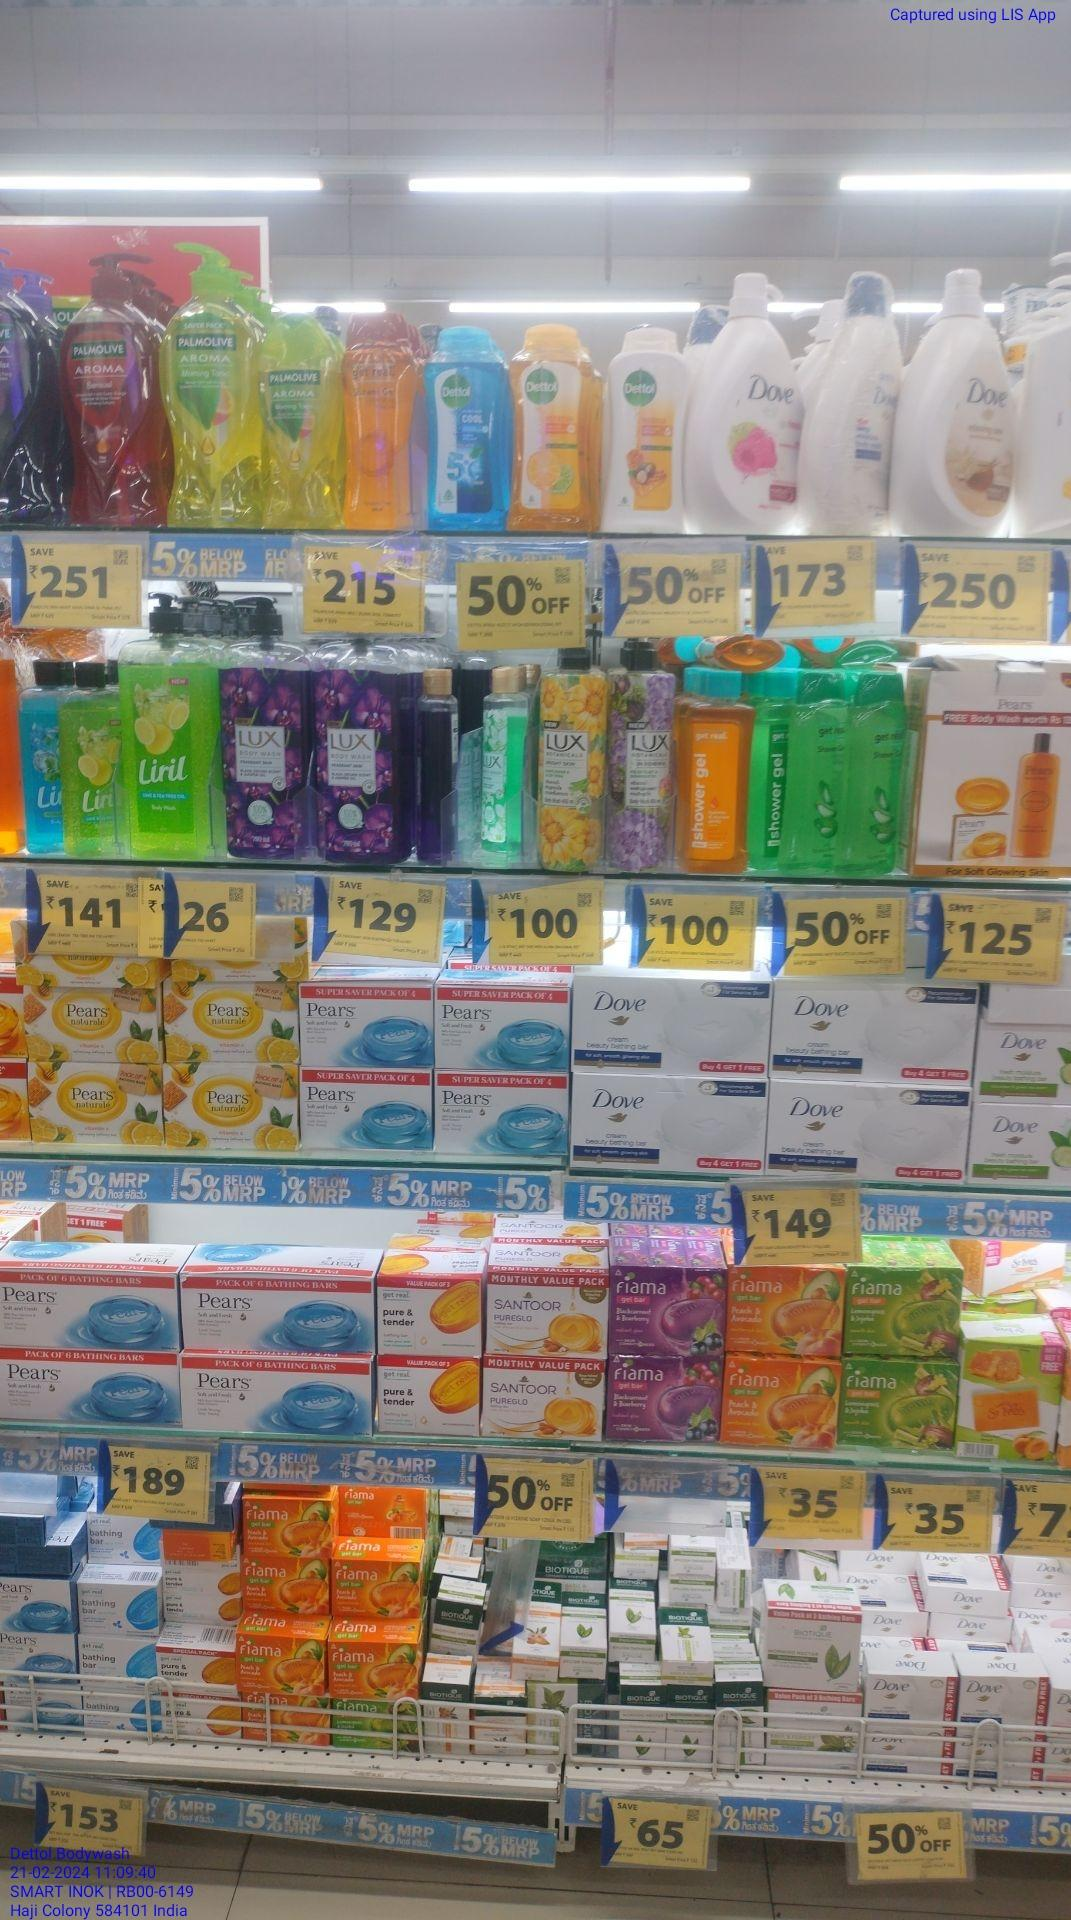Dettol_Bodywash_Cool: (419, 323, 509, 530)
Dettol_Bodywash_Refresh: (508, 322, 594, 530)
Dettol_Nourish_Body_Wash_250ML: (600, 326, 692, 533)
Get_Real_Shower_Gel_Moisturising_Glycerin_300ML: (338, 306, 421, 529)
Liril_Lime_and_Tea_Tree_Oil_Body_Wash_250ML: (57, 659, 127, 855)
Palmolive_Aroma_Morning_Tonic_Shower_Gel_250ML: (255, 309, 342, 530)
